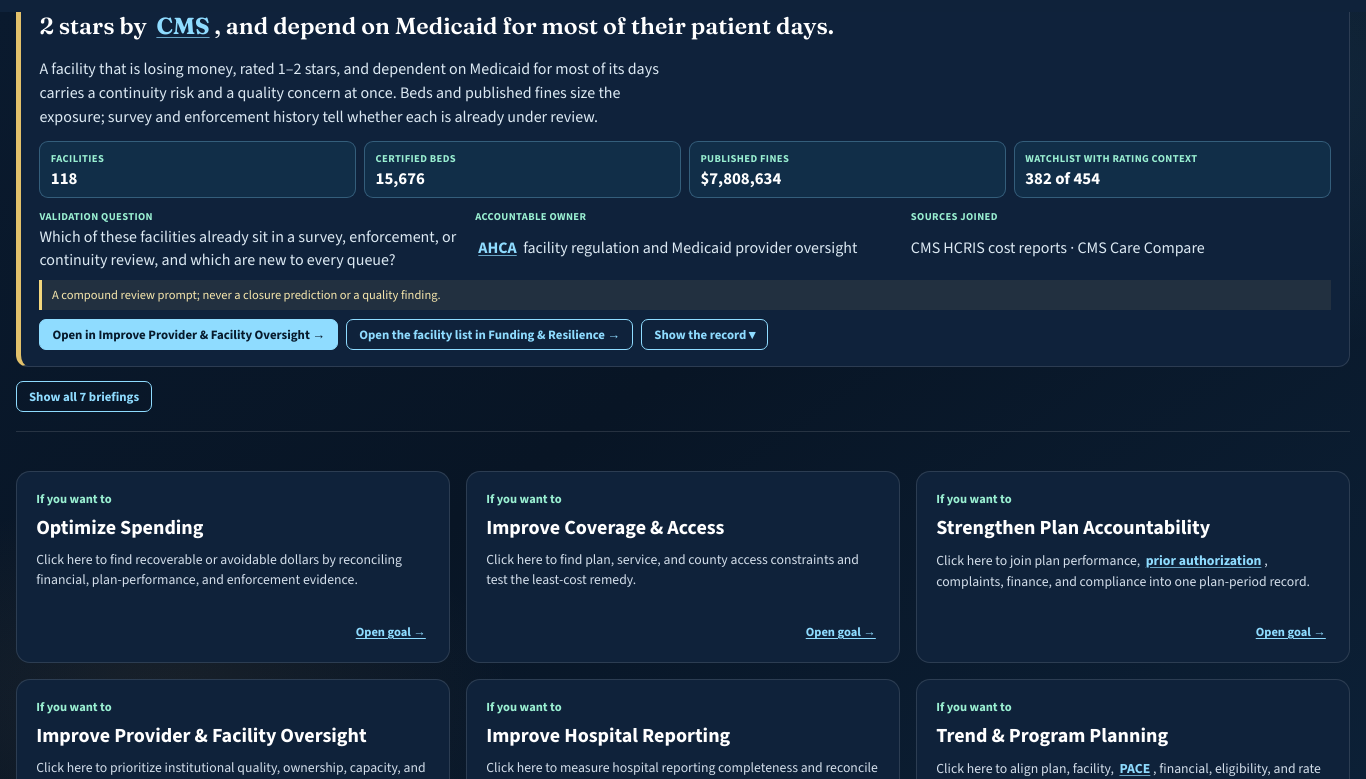
Operational briefing strip › renders above the goal tiles on the FL Goals page with governed headlines
Click the button with class "ops-briefing-show-all" at (84, 396), box 16,381 -> 152,412
(page scrolled)
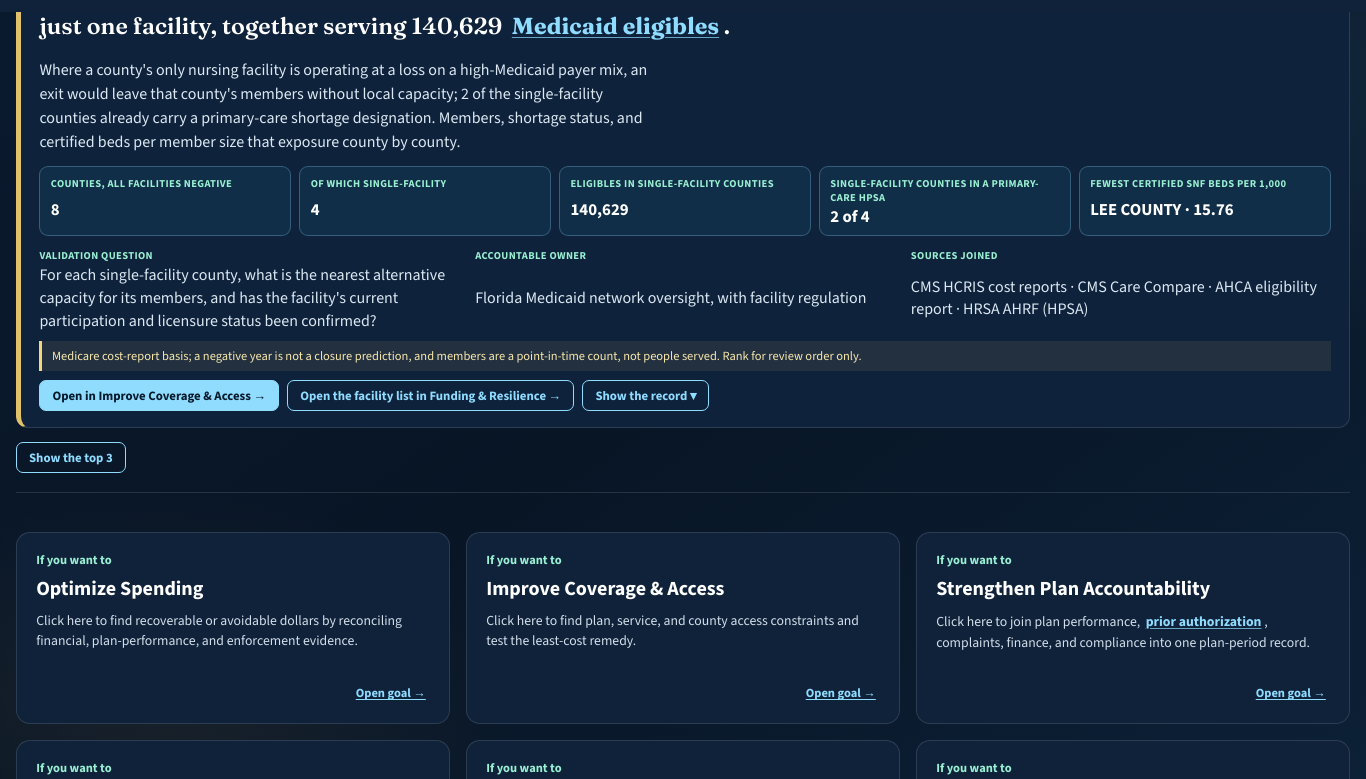
expect the button with class "ops-briefing-open-goal" is shown: met, box 39,380 -> 279,412
